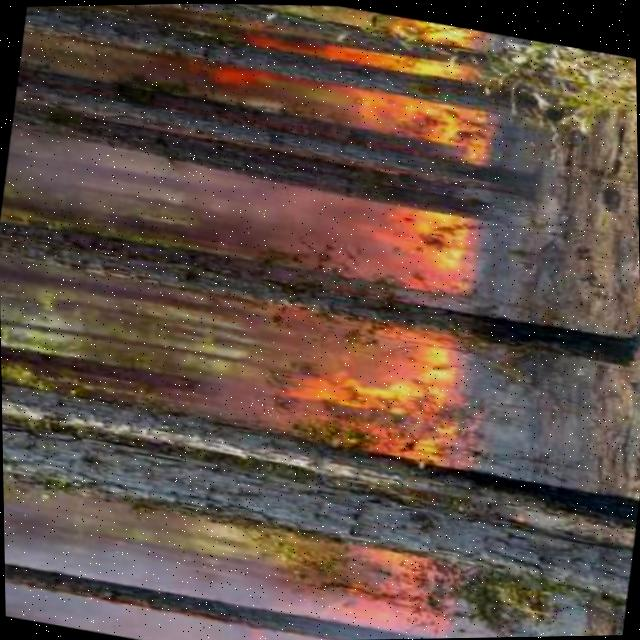fire: (289, 323, 459, 422), (357, 86, 489, 146), (298, 579, 429, 637), (370, 197, 470, 271)
